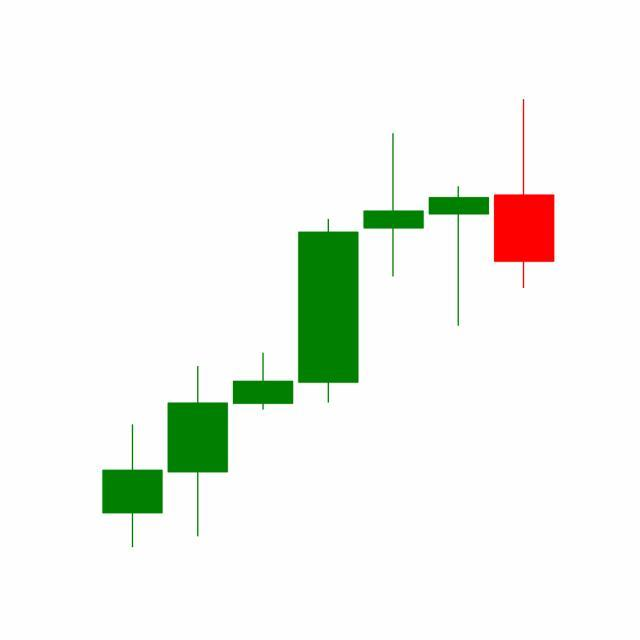Advance Block: (295, 130, 492, 407)
